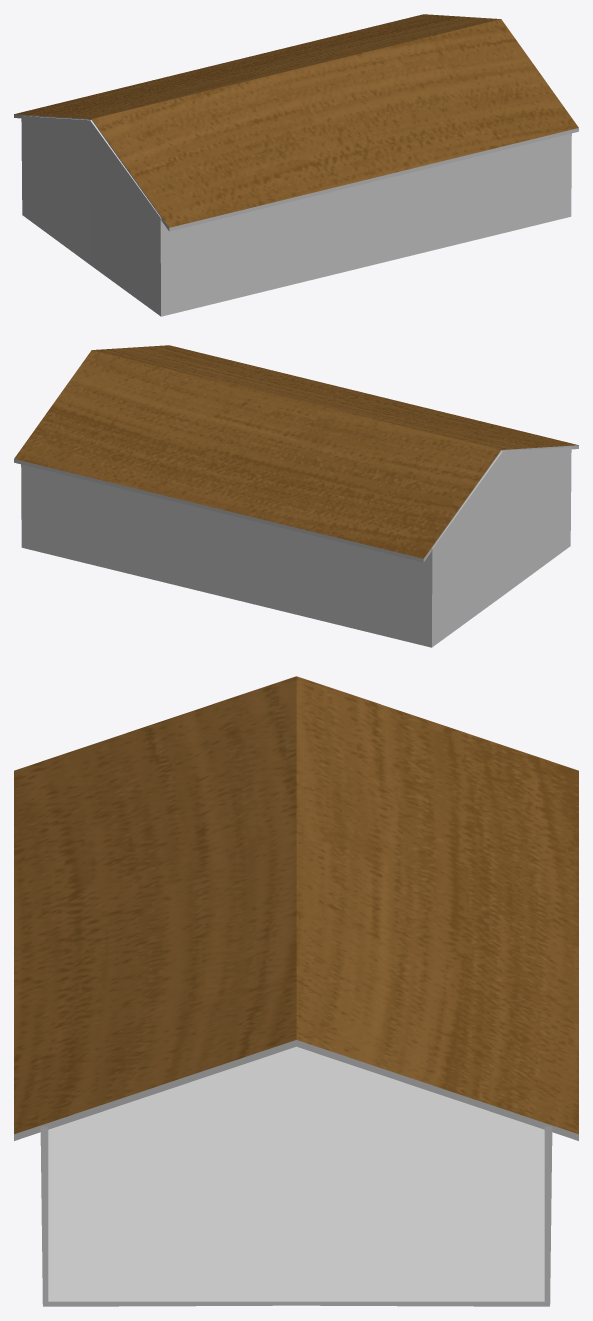
File: restaurante_fachada.fbx
3 renders of one model, top to bottom at view 1: azimuth 30°, elevation 25°; view 2: azimuth 150°, elevation 25°; view 3: azimuth 270°, elevation 25°, orthographic. The views are drawn at different scales.
Parts seen in each view (by area): view 1: TECHO; view 2: TECHO; view 3: TECHO.
Part boxes in pixels (x1,y1,x2,y2): TECHO: [14, 14, 578, 316]; TECHO: [14, 345, 578, 647]; TECHO: [14, 676, 578, 1306].
Bounding box in the file's own units: 14472 × 4937 × 9461.
